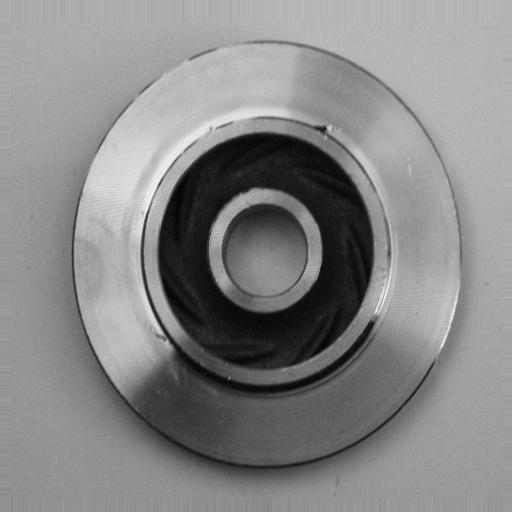crack: (308, 118, 344, 143)
scratch: (370, 253, 402, 337), (143, 325, 185, 360)
unpolished_casting: (70, 39, 466, 472)
